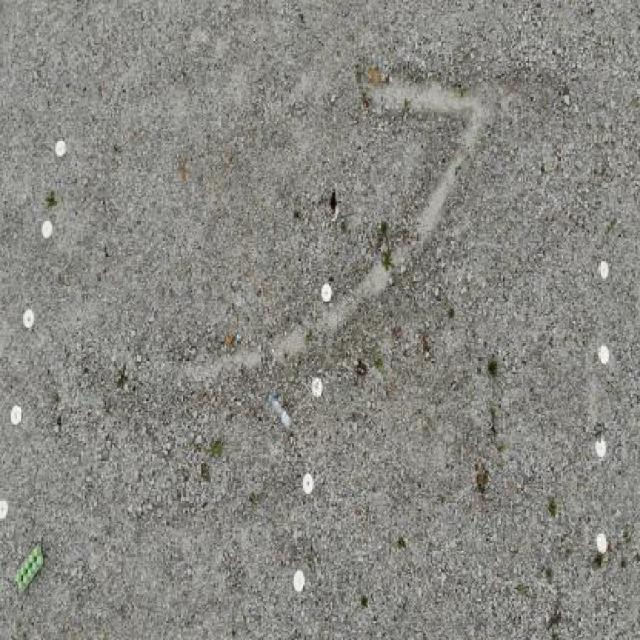Garbage: (15, 543, 44, 592), (268, 391, 292, 431), (328, 189, 336, 216)
